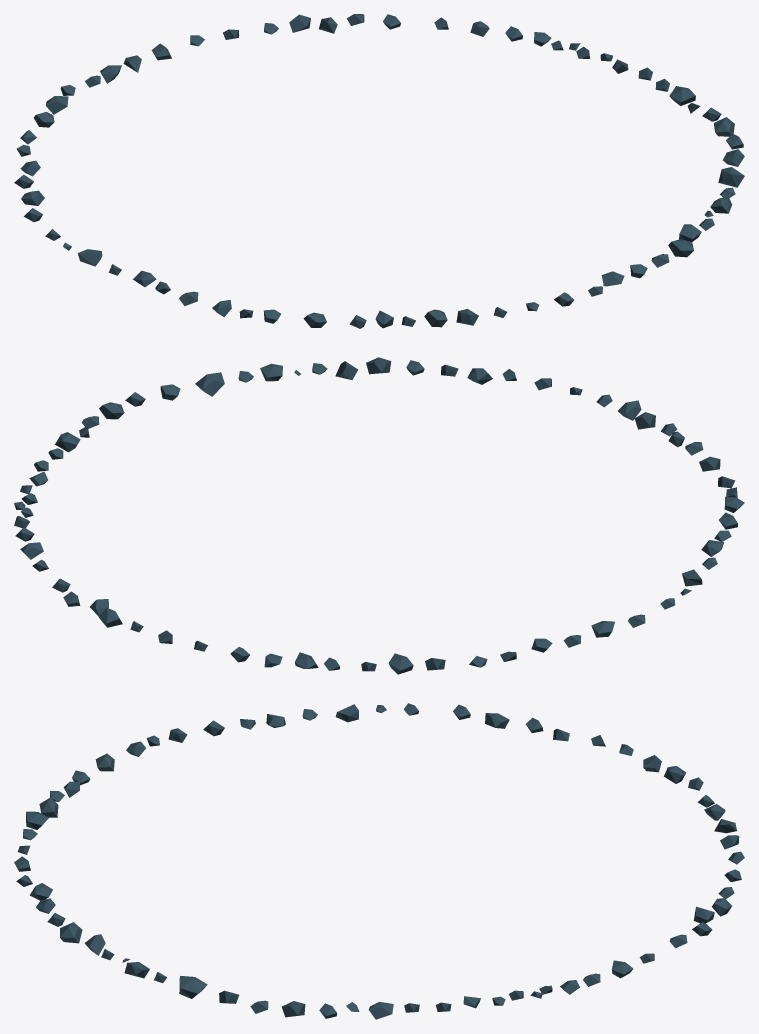
File: Blue_Planet_Ring_01_LOD0.fbx
The picture shows the model from 3 angles, top to bottom: view 1: azimuth 30°, elevation 25°; view 2: azimuth 150°, elevation 25°; view 3: azimuth 270°, elevation 25°; orthographic projection.
Parts seen in each view (by area): view 1: Blue_Planet_Ring_01_LOD0; view 2: Blue_Planet_Ring_01_LOD0; view 3: Blue_Planet_Ring_01_LOD0.
Boxes of the visible parts, bbox=[...] form: Blue_Planet_Ring_01_LOD0: bbox=[14, 14, 744, 328]; Blue_Planet_Ring_01_LOD0: bbox=[14, 357, 744, 674]; Blue_Planet_Ring_01_LOD0: bbox=[14, 703, 744, 1019].
Bounding box in the file's own units: 26789 × 734 × 26749.
